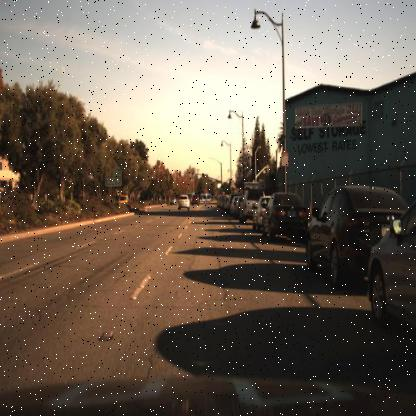car: (303, 184, 409, 284), (366, 202, 416, 335), (260, 189, 308, 243), (114, 188, 131, 207), (176, 193, 190, 213), (190, 192, 202, 208), (170, 192, 179, 210)
trafficLight-Green: (219, 184, 224, 196), (200, 171, 205, 182), (190, 171, 195, 181)
